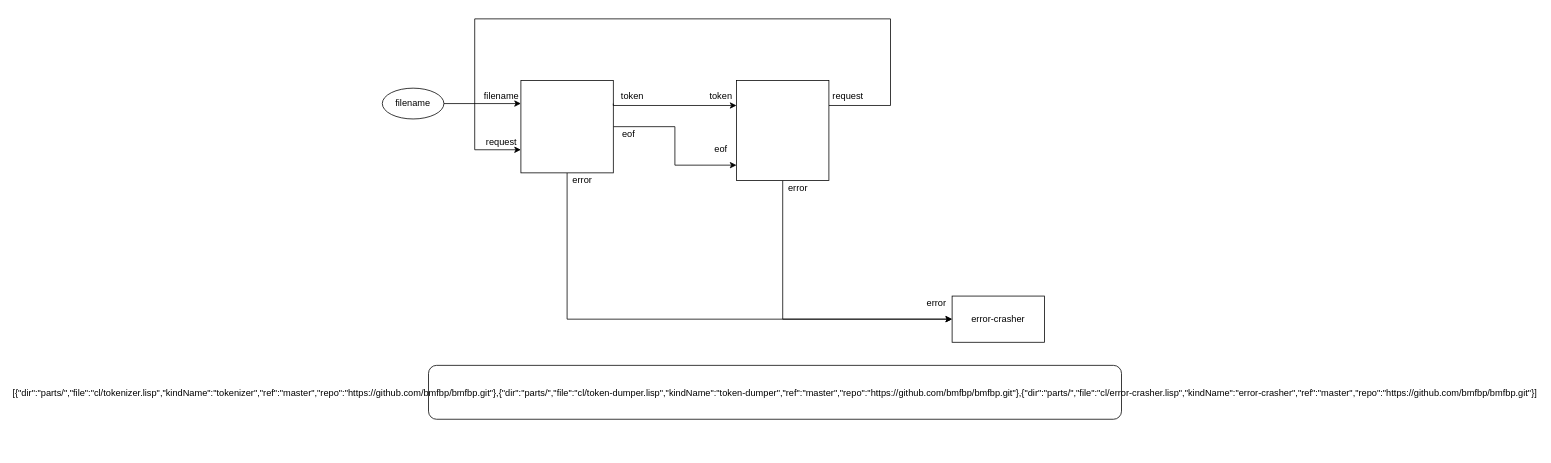
Image size: 1551x463. Some labels were removed from this diagram. Here are the shapes that lost their labels. From the top down, the centre of each, then its label:
At [566,126]: "tokenizer".
At [782,130]: "token-dumper".
